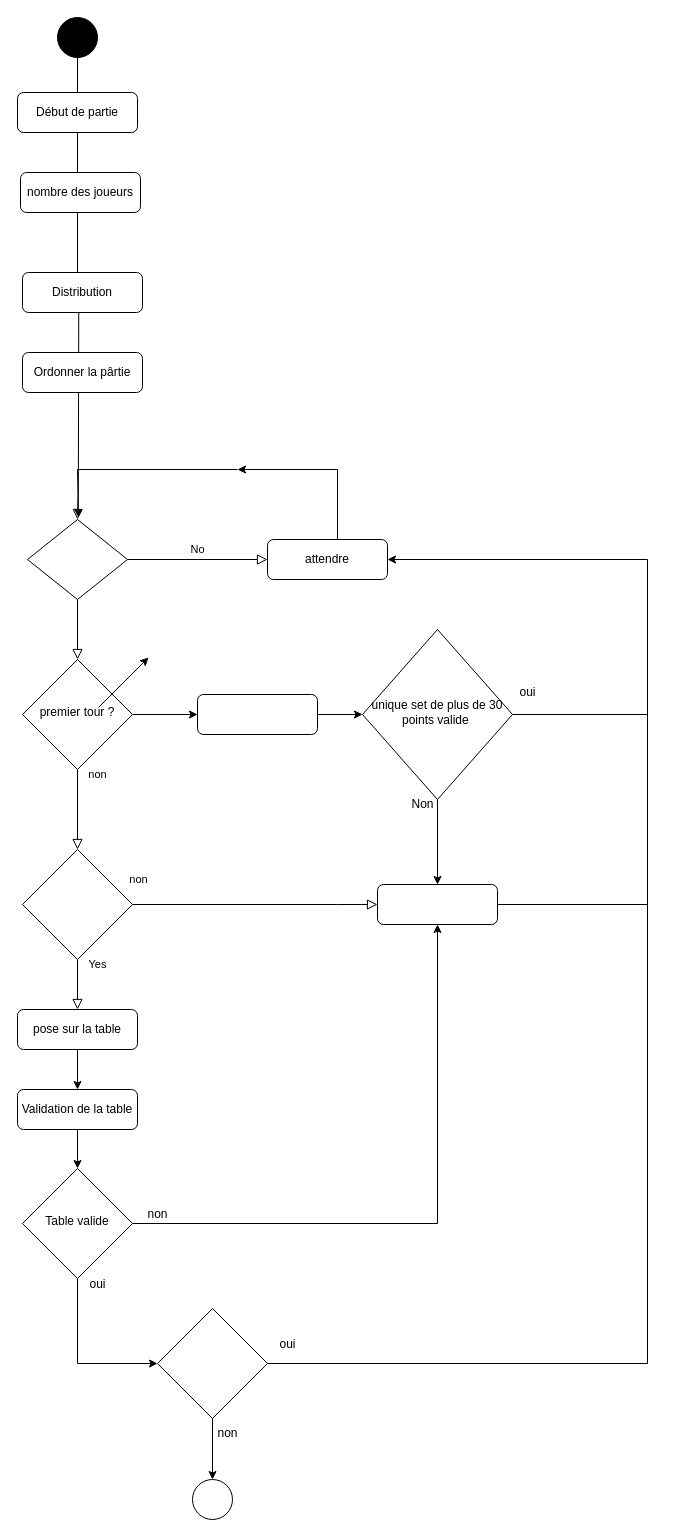
Some shapes in this 673 by 1537 pixel diagram are drawn without their labels. Here are the shapes that lost their labels. From the top down, the box of each, then its label:
(26, 518, 128, 600): Joueur doit jouer
(196, 694, 318, 734): Poser set
(22, 848, 132, 960): Volonter de pauser ?
(376, 884, 498, 924): Pioche
(156, 1308, 268, 1418): Tuile dans la main ?
